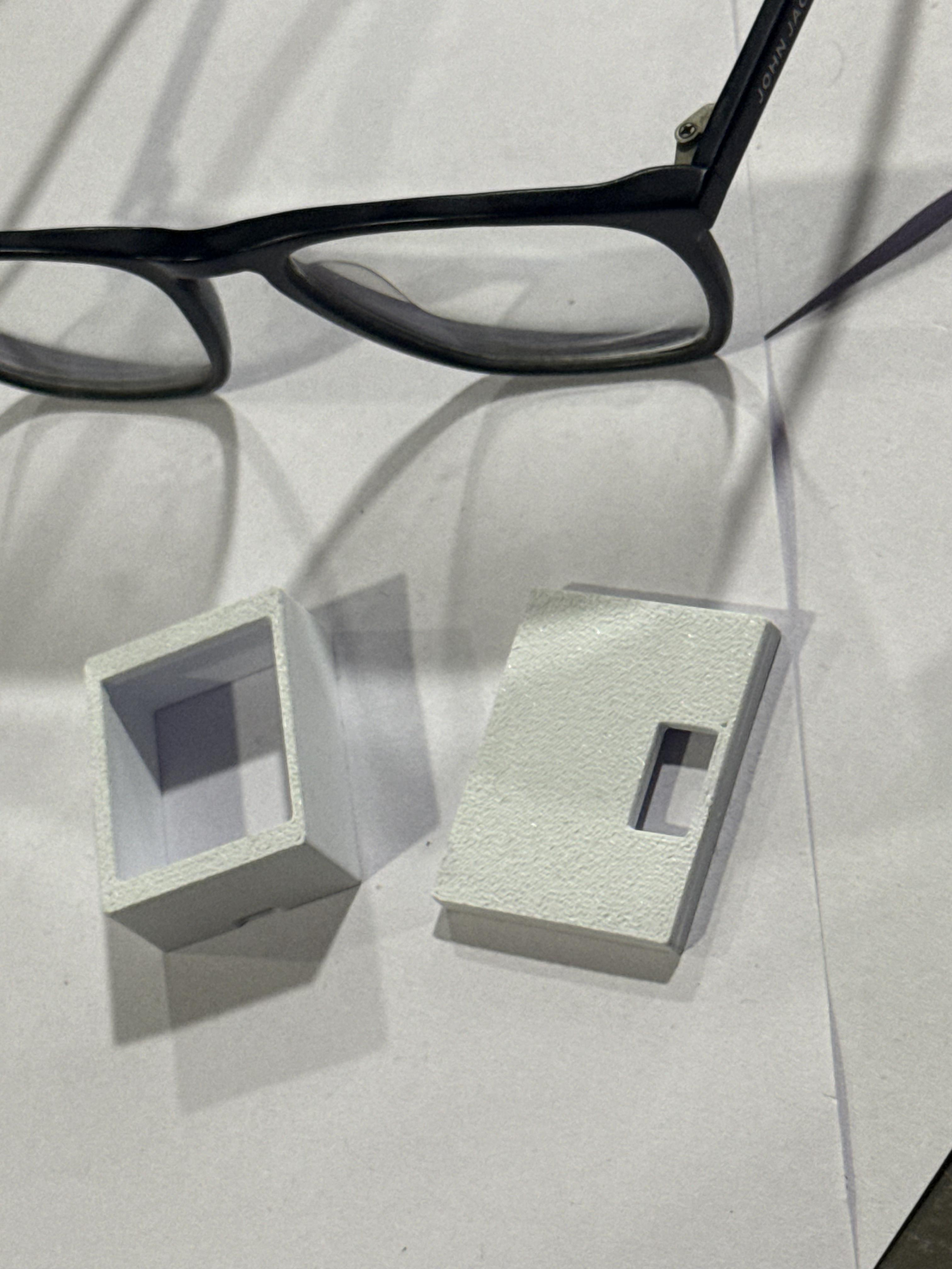enclosure: (432, 584, 782, 983), (84, 585, 364, 953)
